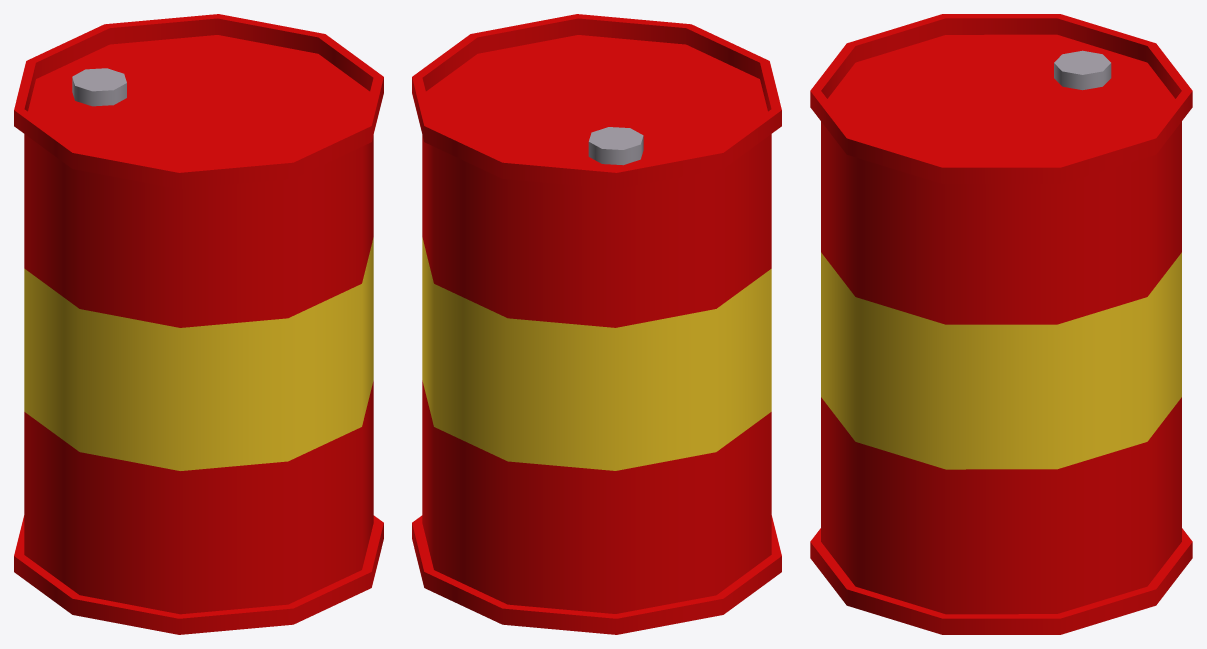
Rendered from barrel.fbx.
3 views of the same model, side by side, from view 1: azimuth 30°, elevation 25°; view 2: azimuth 150°, elevation 25°; view 3: azimuth 270°, elevation 25° (orthographic).
Visible parts, largest first — view 1: Cylinder; view 2: Cylinder; view 3: Cylinder.
Part boxes in pixels (bbox=[...]): Cylinder: bbox=[14, 14, 383, 634]; Cylinder: bbox=[412, 14, 781, 634]; Cylinder: bbox=[810, 14, 1192, 634].
Size of the model in its own units: 198 by 280 by 208.
